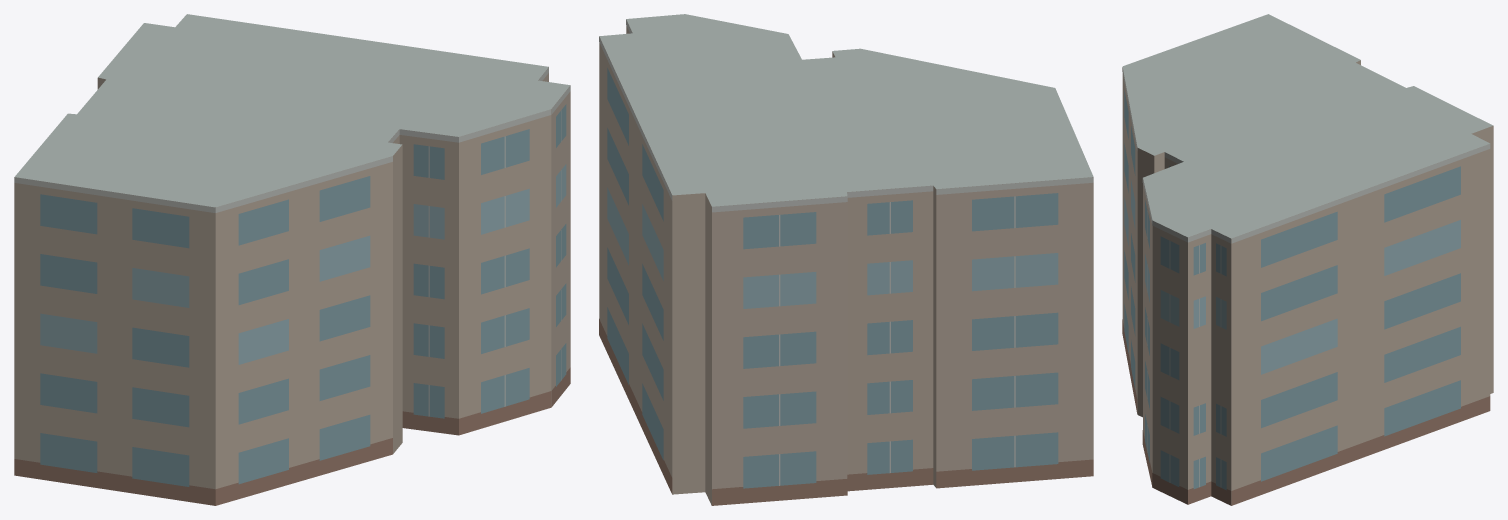
Rendered from survey-upis-32724233.glb.
3 renders of one model, left to right at view 1: azimuth 30°, elevation 25°; view 2: azimuth 150°, elevation 25°; view 3: azimuth 270°, elevation 25°, orthographic. The views are drawn at different scales.
Parts seen in each view (by area): view 1: survey-upis-32724233.tmp; view 2: survey-upis-32724233.tmp; view 3: survey-upis-32724233.tmp.
Part boxes in pixels (bbox=[...]): survey-upis-32724233.tmp: bbox=[14, 14, 570, 505]; survey-upis-32724233.tmp: bbox=[599, 14, 1093, 505]; survey-upis-32724233.tmp: bbox=[1122, 14, 1493, 505].
Size of the model in its own units: 22.9 by 12.7 by 15.98.
